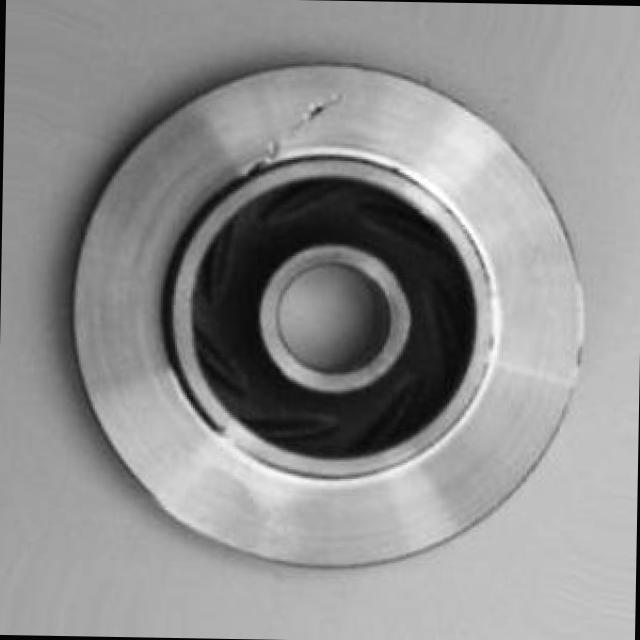Defect: (286, 84, 343, 128)
